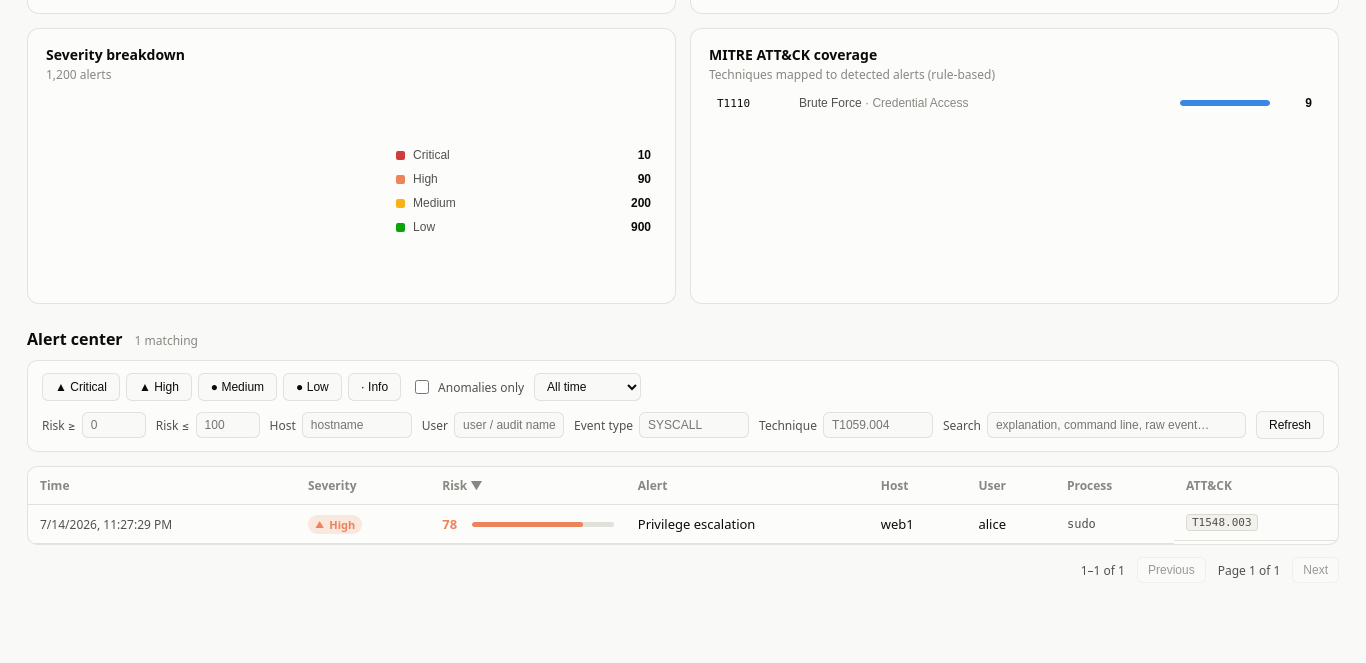
Test: App › opens the detail panel on row click and fetches the full alert
The width and height of the screenshot is (1366, 663).
(page scrolled)
Step 1. Click the text "Privilege escalation" → [747, 524], box x1=626 y1=504 x2=869 y2=544
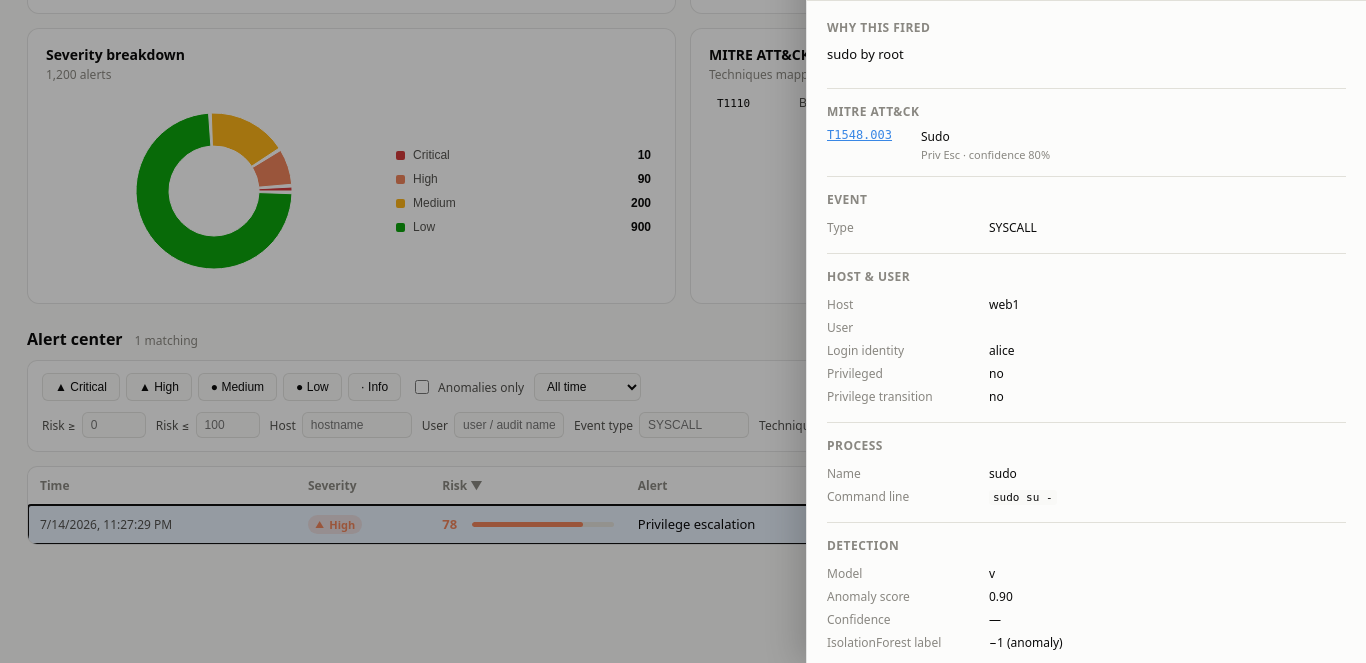
Expected: the text "sudo by root" is shown, x1=827 y1=45 x2=904 y2=63
